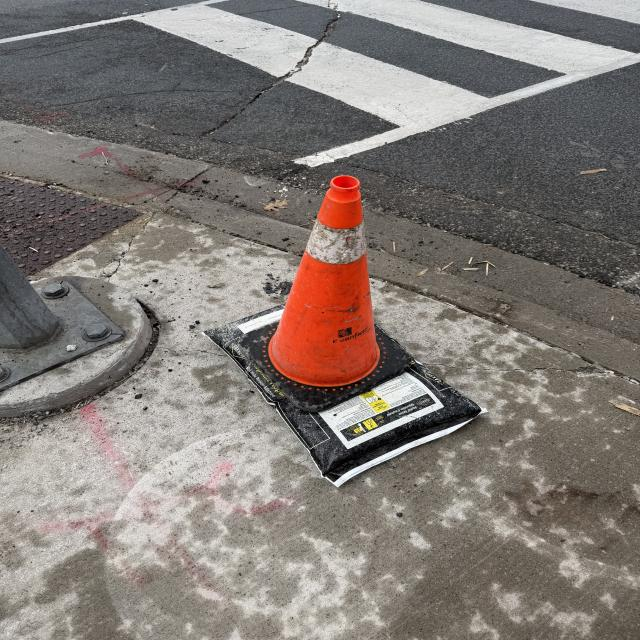Traffic Cone: (256, 173, 398, 402)
